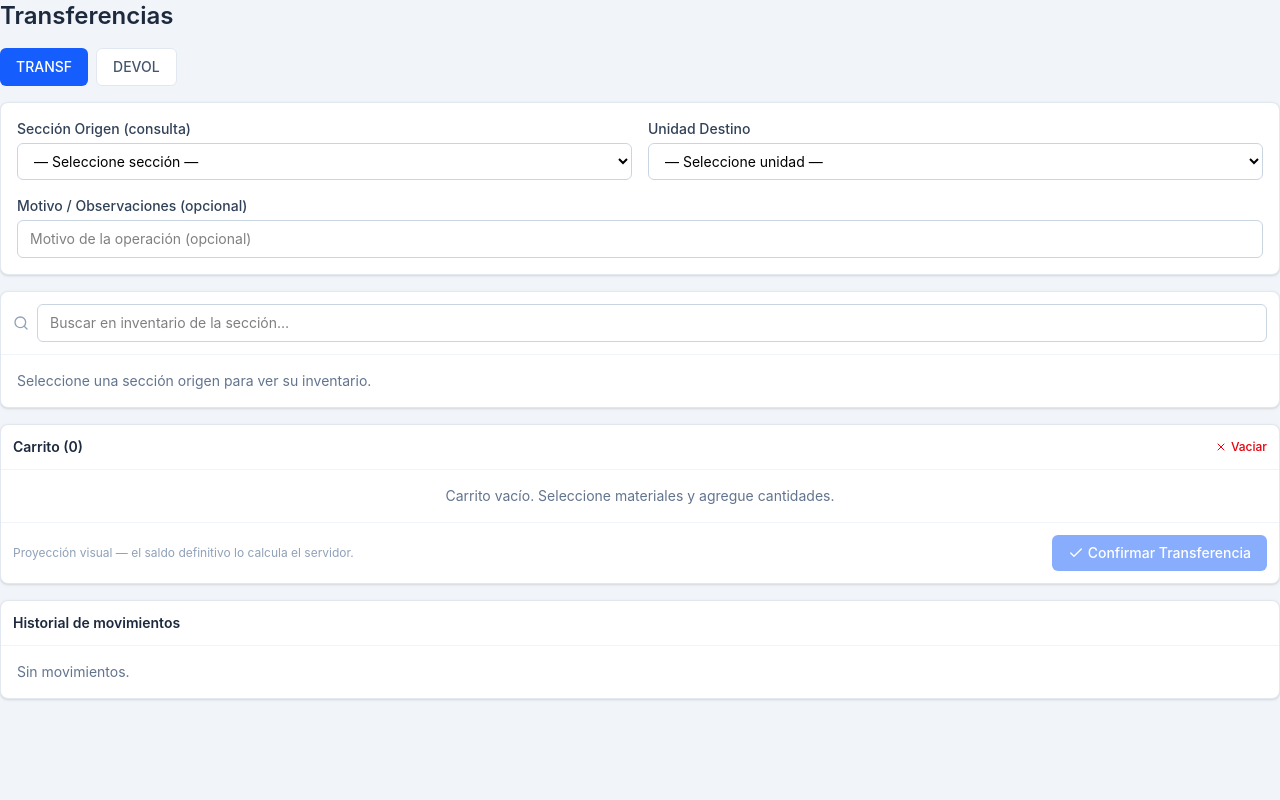
Scenario: Carrito multi-origen › RF-1/RF-15 REQ-TRFM-001/015: el carrito conserva líneas de General e Inventario FO al cambiar de sección y rotula el origen de cada una
The width and height of the screenshot is (1280, 800).
Select "Inventario General" in the dropdown below "Sección Origen (consulta)" at [324, 162], box [17,143,632,180]
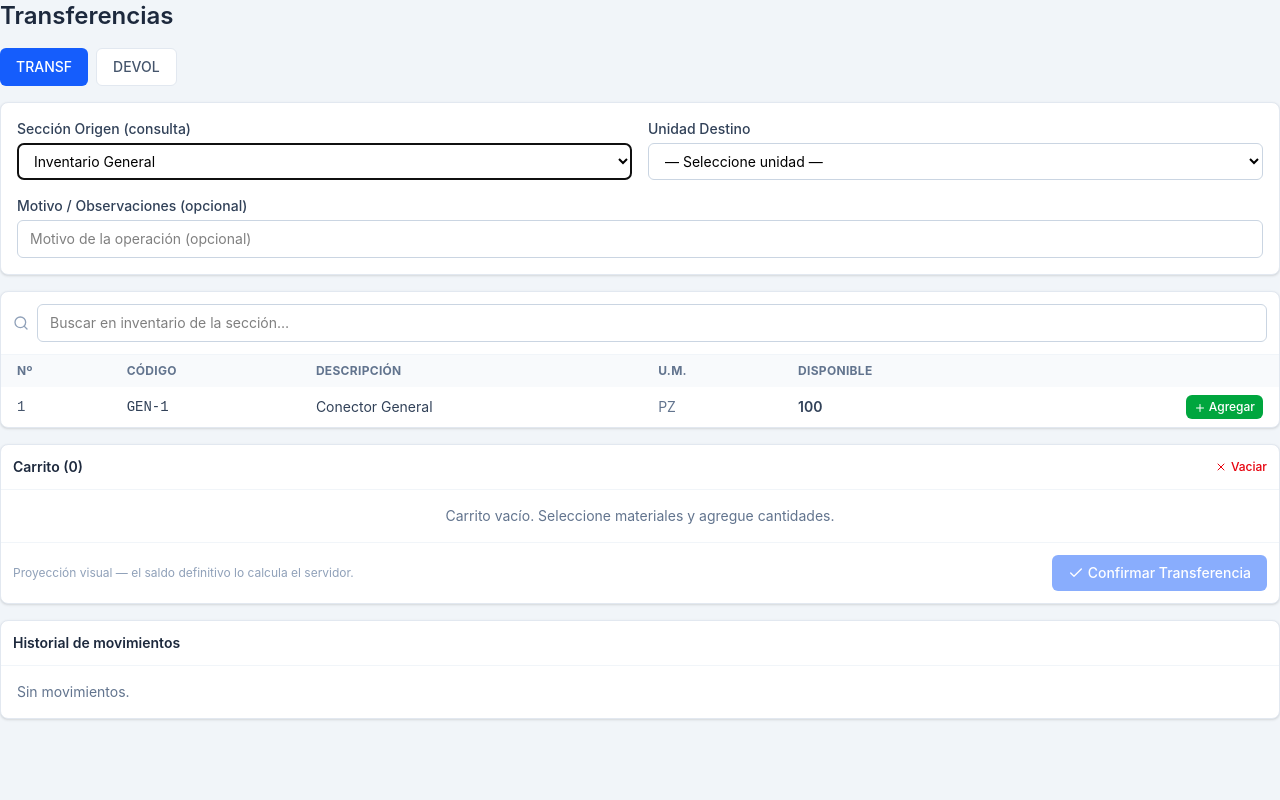
Click the button "Agregar" at [1224, 407], box [1186,395,1263,419]
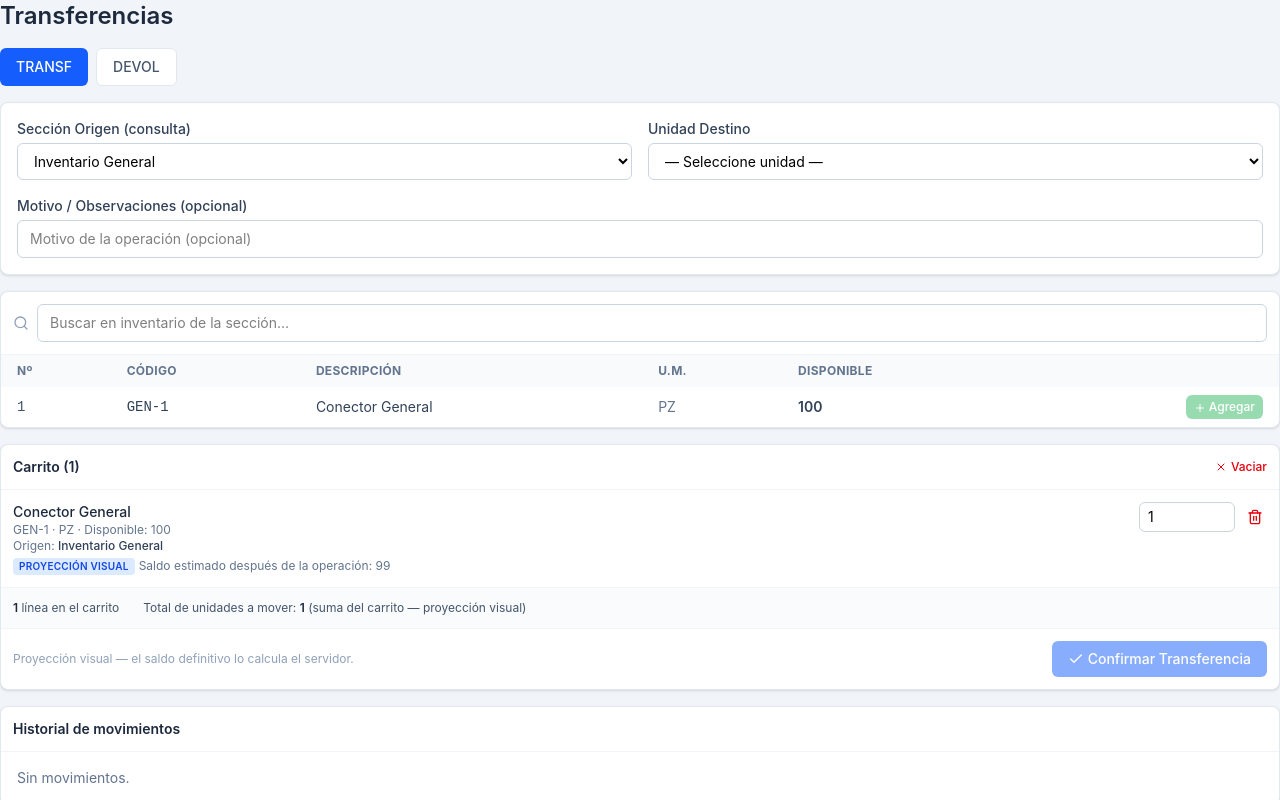
Select "Inventario FO" in the dropdown below "Sección Origen (consulta)" at [324, 162], box [17,143,632,180]
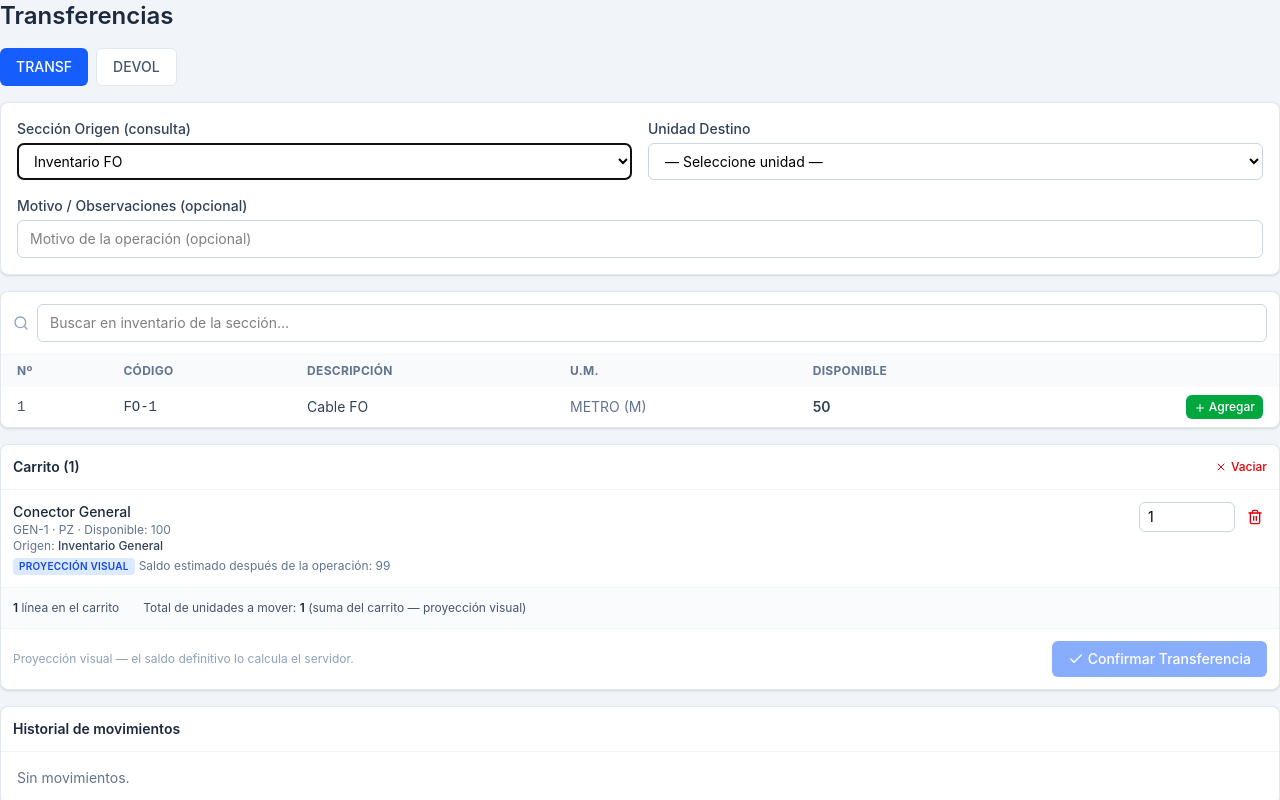
Click the button "Agregar" at [1224, 407], box [1186,395,1263,419]
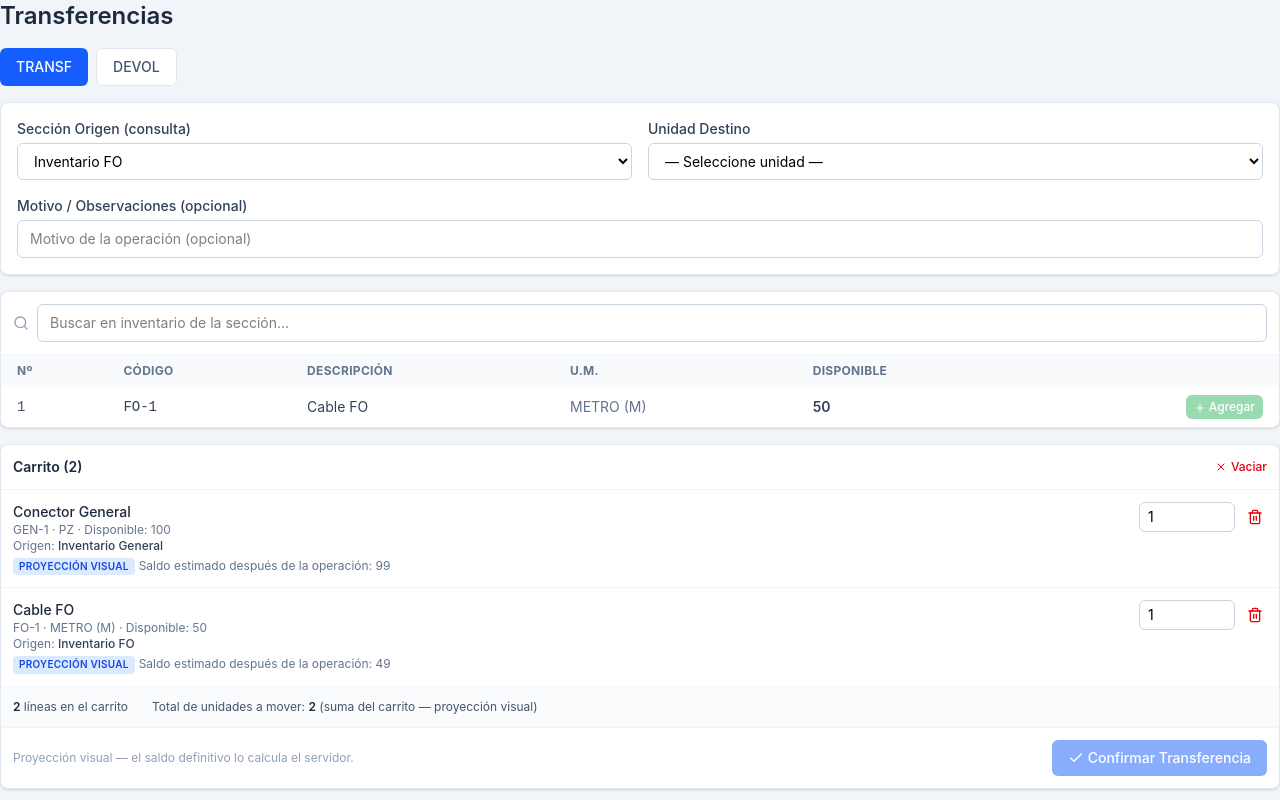
Expected: the text with test id "origen-linea-10" reads "Inventario General", [58,538,163,553]
Expected: the heading "Carrito (2)" is shown, [13,457,82,477]
Expected: the text with test id "origen-linea-20" reads "Inventario FO", [58,636,135,651]
